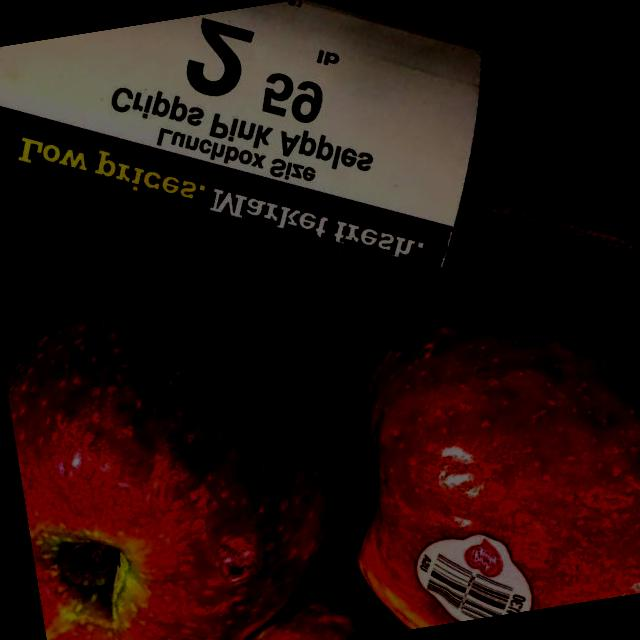Apple: (0, 241, 381, 640), (311, 262, 640, 637)
